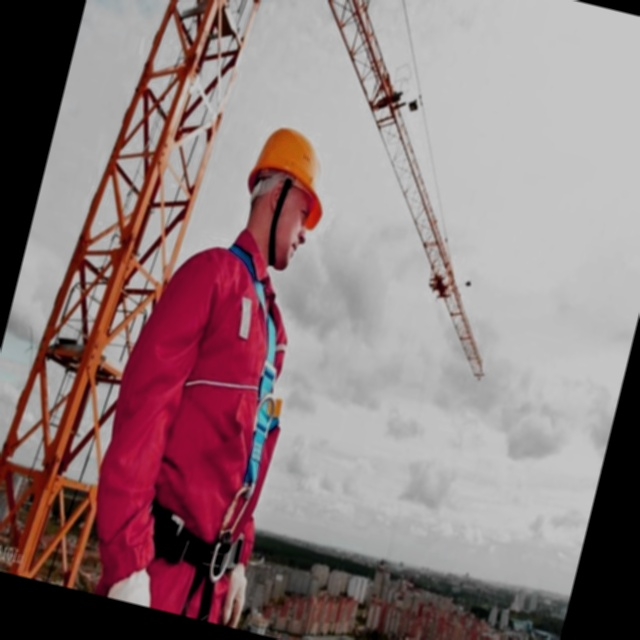Con_Casco: (226, 128, 333, 271)
